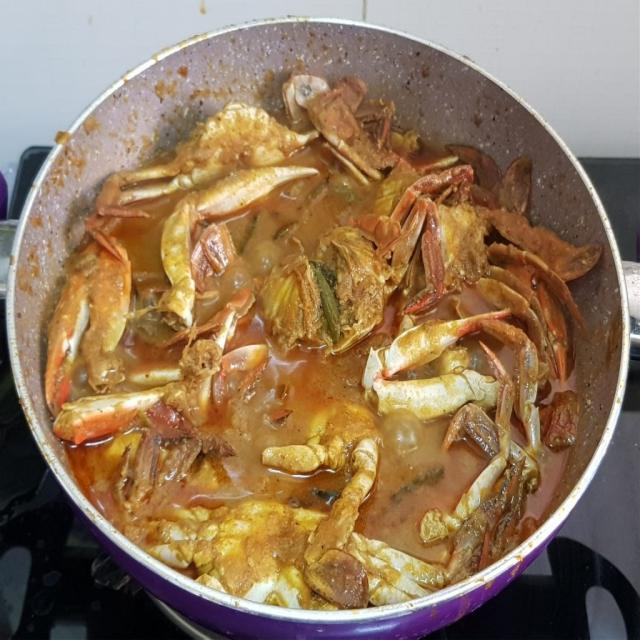nandu masala: (66, 74, 581, 574)
